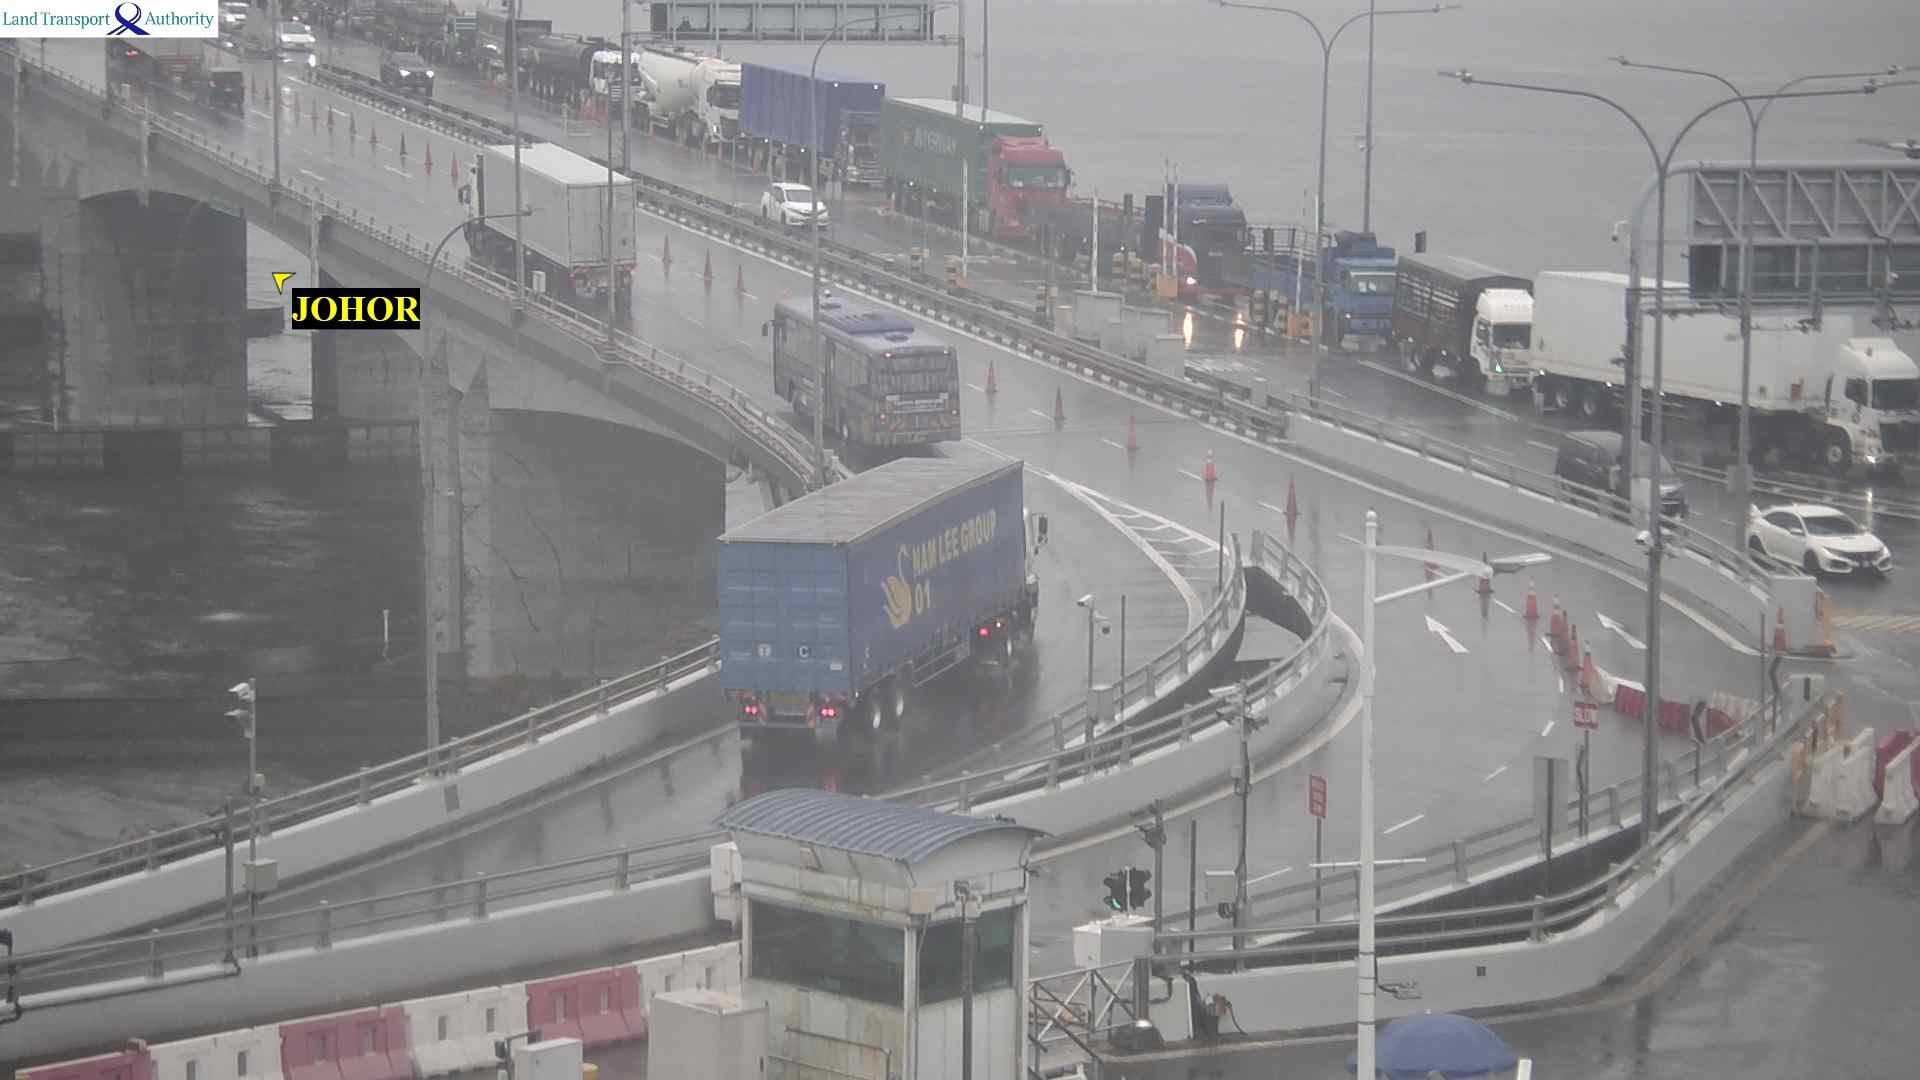vehicle-secondlink-johor: (727, 456, 1022, 727), (774, 295, 954, 438), (470, 140, 632, 283), (113, 42, 206, 73), (207, 69, 238, 103)
vehicle-secondlink-singapore: (1544, 275, 1920, 466), (886, 99, 1063, 227), (739, 63, 877, 171), (1038, 186, 1245, 255), (1404, 256, 1526, 369), (1222, 238, 1402, 309), (1561, 430, 1696, 522), (1752, 510, 1894, 580), (641, 49, 736, 131), (522, 45, 636, 83), (465, 0, 559, 45), (767, 181, 819, 227), (438, 15, 492, 48), (383, 51, 434, 82), (279, 17, 319, 48)
